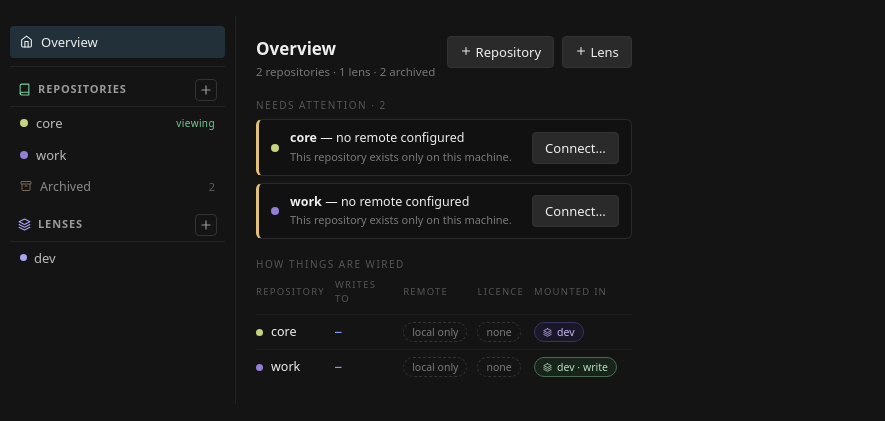
RepoManager › puts every archived repo on one page, indexed by the contents rail
This screenshot has width=885, height=421.
Click the button with test id "repomgr-archived". click: (118, 186)
box: [10,171,225,202]
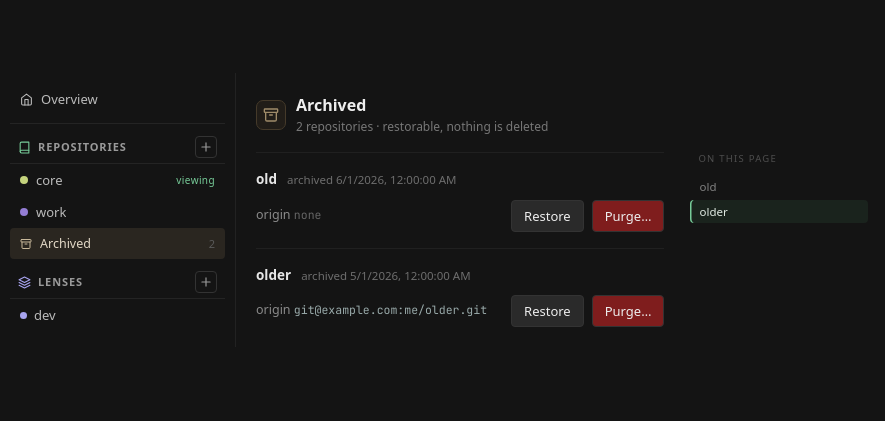
Now the element with test id "block-archived-old.1" is shown, box [256,152,664,232]
Now the element with test id "block-archived-older.2" is shown, box [256,248,664,327]
Now the button with test id "archived-restore-old.1" is shown, box [511,200,584,232]
